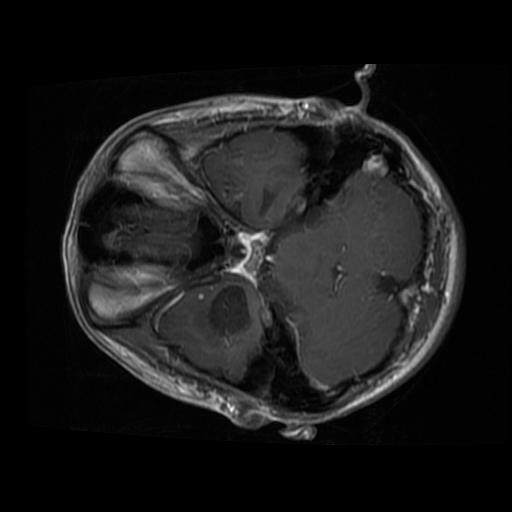glioma: (208, 280, 252, 341)
